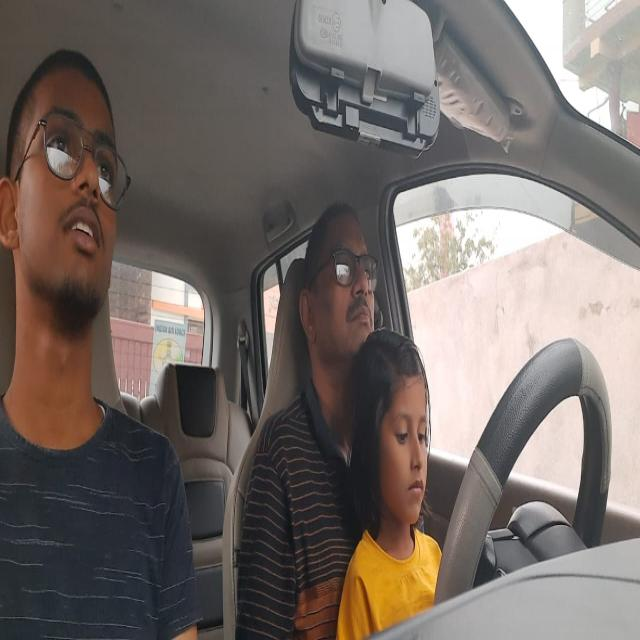child: (365, 327, 440, 542)
person: (0, 37, 134, 322), (294, 198, 385, 368)
